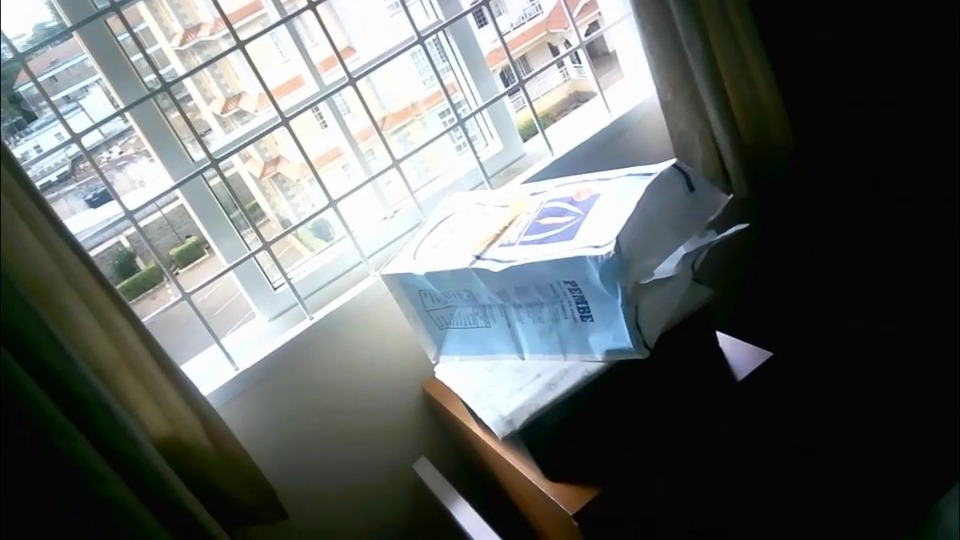wheat_flour_blue_label: (377, 159, 735, 363)
